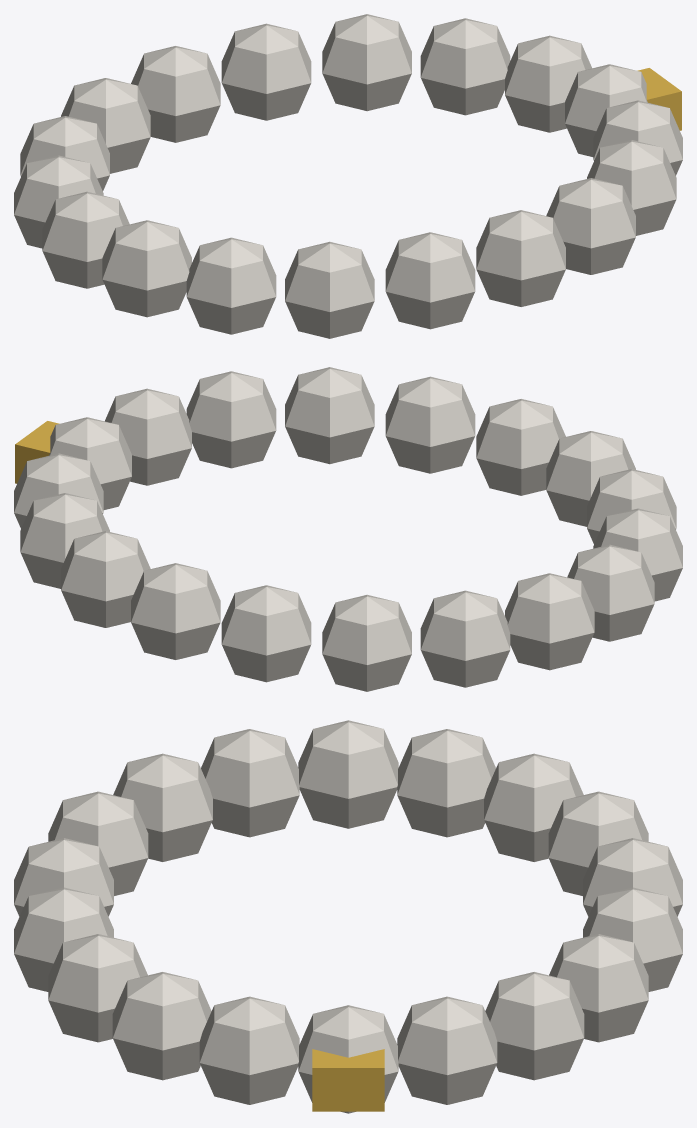
File: pigeon_necklace.glb
The picture shows the model from 3 angles, top to bottom: view 1: azimuth 30°, elevation 25°; view 2: azimuth 150°, elevation 25°; view 3: azimuth 270°, elevation 25°; orthographic projection. The views are drawn at different scales.
Visible parts, largest first — view 1: pearls_pearl, clasp_clasp_gold; view 2: pearls_pearl, clasp_clasp_gold; view 3: pearls_pearl, clasp_clasp_gold.
Boxes of the visible parts, x1=… form: pearls_pearl: x1=14, y1=14, x2=682, y2=338; clasp_clasp_gold: x1=637, y1=68, x2=681, y2=130; pearls_pearl: x1=14, y1=367, x2=682, y2=691; clasp_clasp_gold: x1=15, y1=421, x2=59, y2=483; pearls_pearl: x1=14, y1=720, x2=682, y2=1113; clasp_clasp_gold: x1=312, y1=1049, x2=384, y2=1111.
Size of the model in its own units: 0.167 by 0.024 by 0.139.
